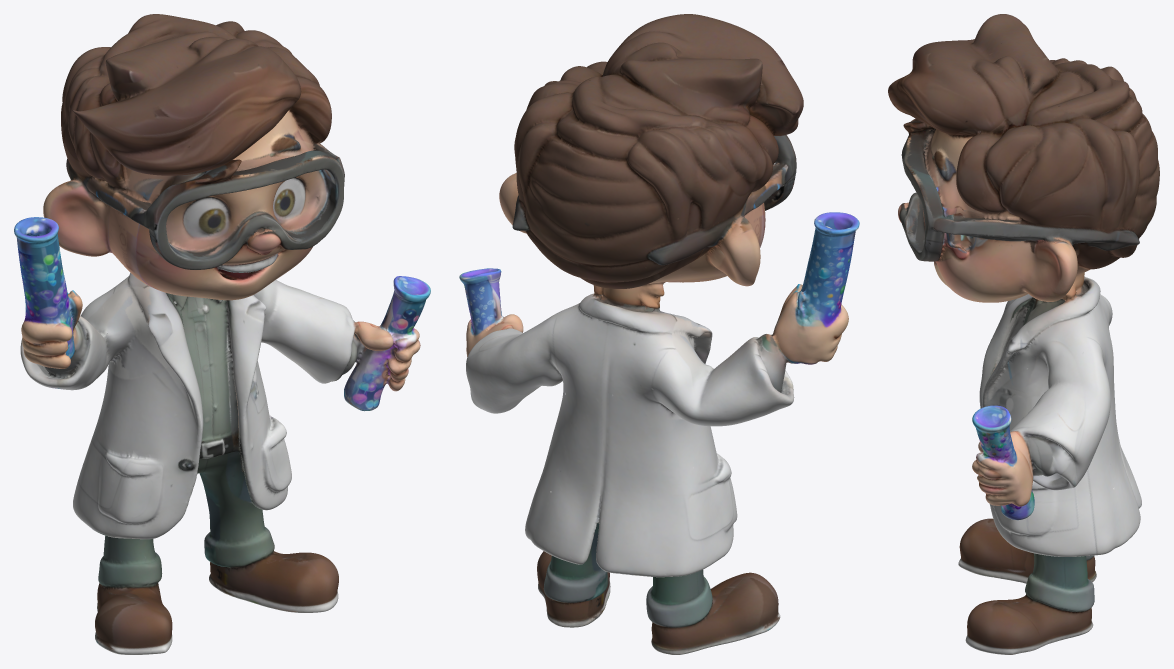
Rendered from scientist.glb.
The picture shows the model from 3 angles, left to right: view 1: azimuth 30°, elevation 25°; view 2: azimuth 150°, elevation 25°; view 3: azimuth 270°, elevation 25°; orthographic projection. The views are drawn at different scales.
Bounding box in the file's own units: 48060 × 65435 × 29685.
Materials: 1 (1 with a texture image).
